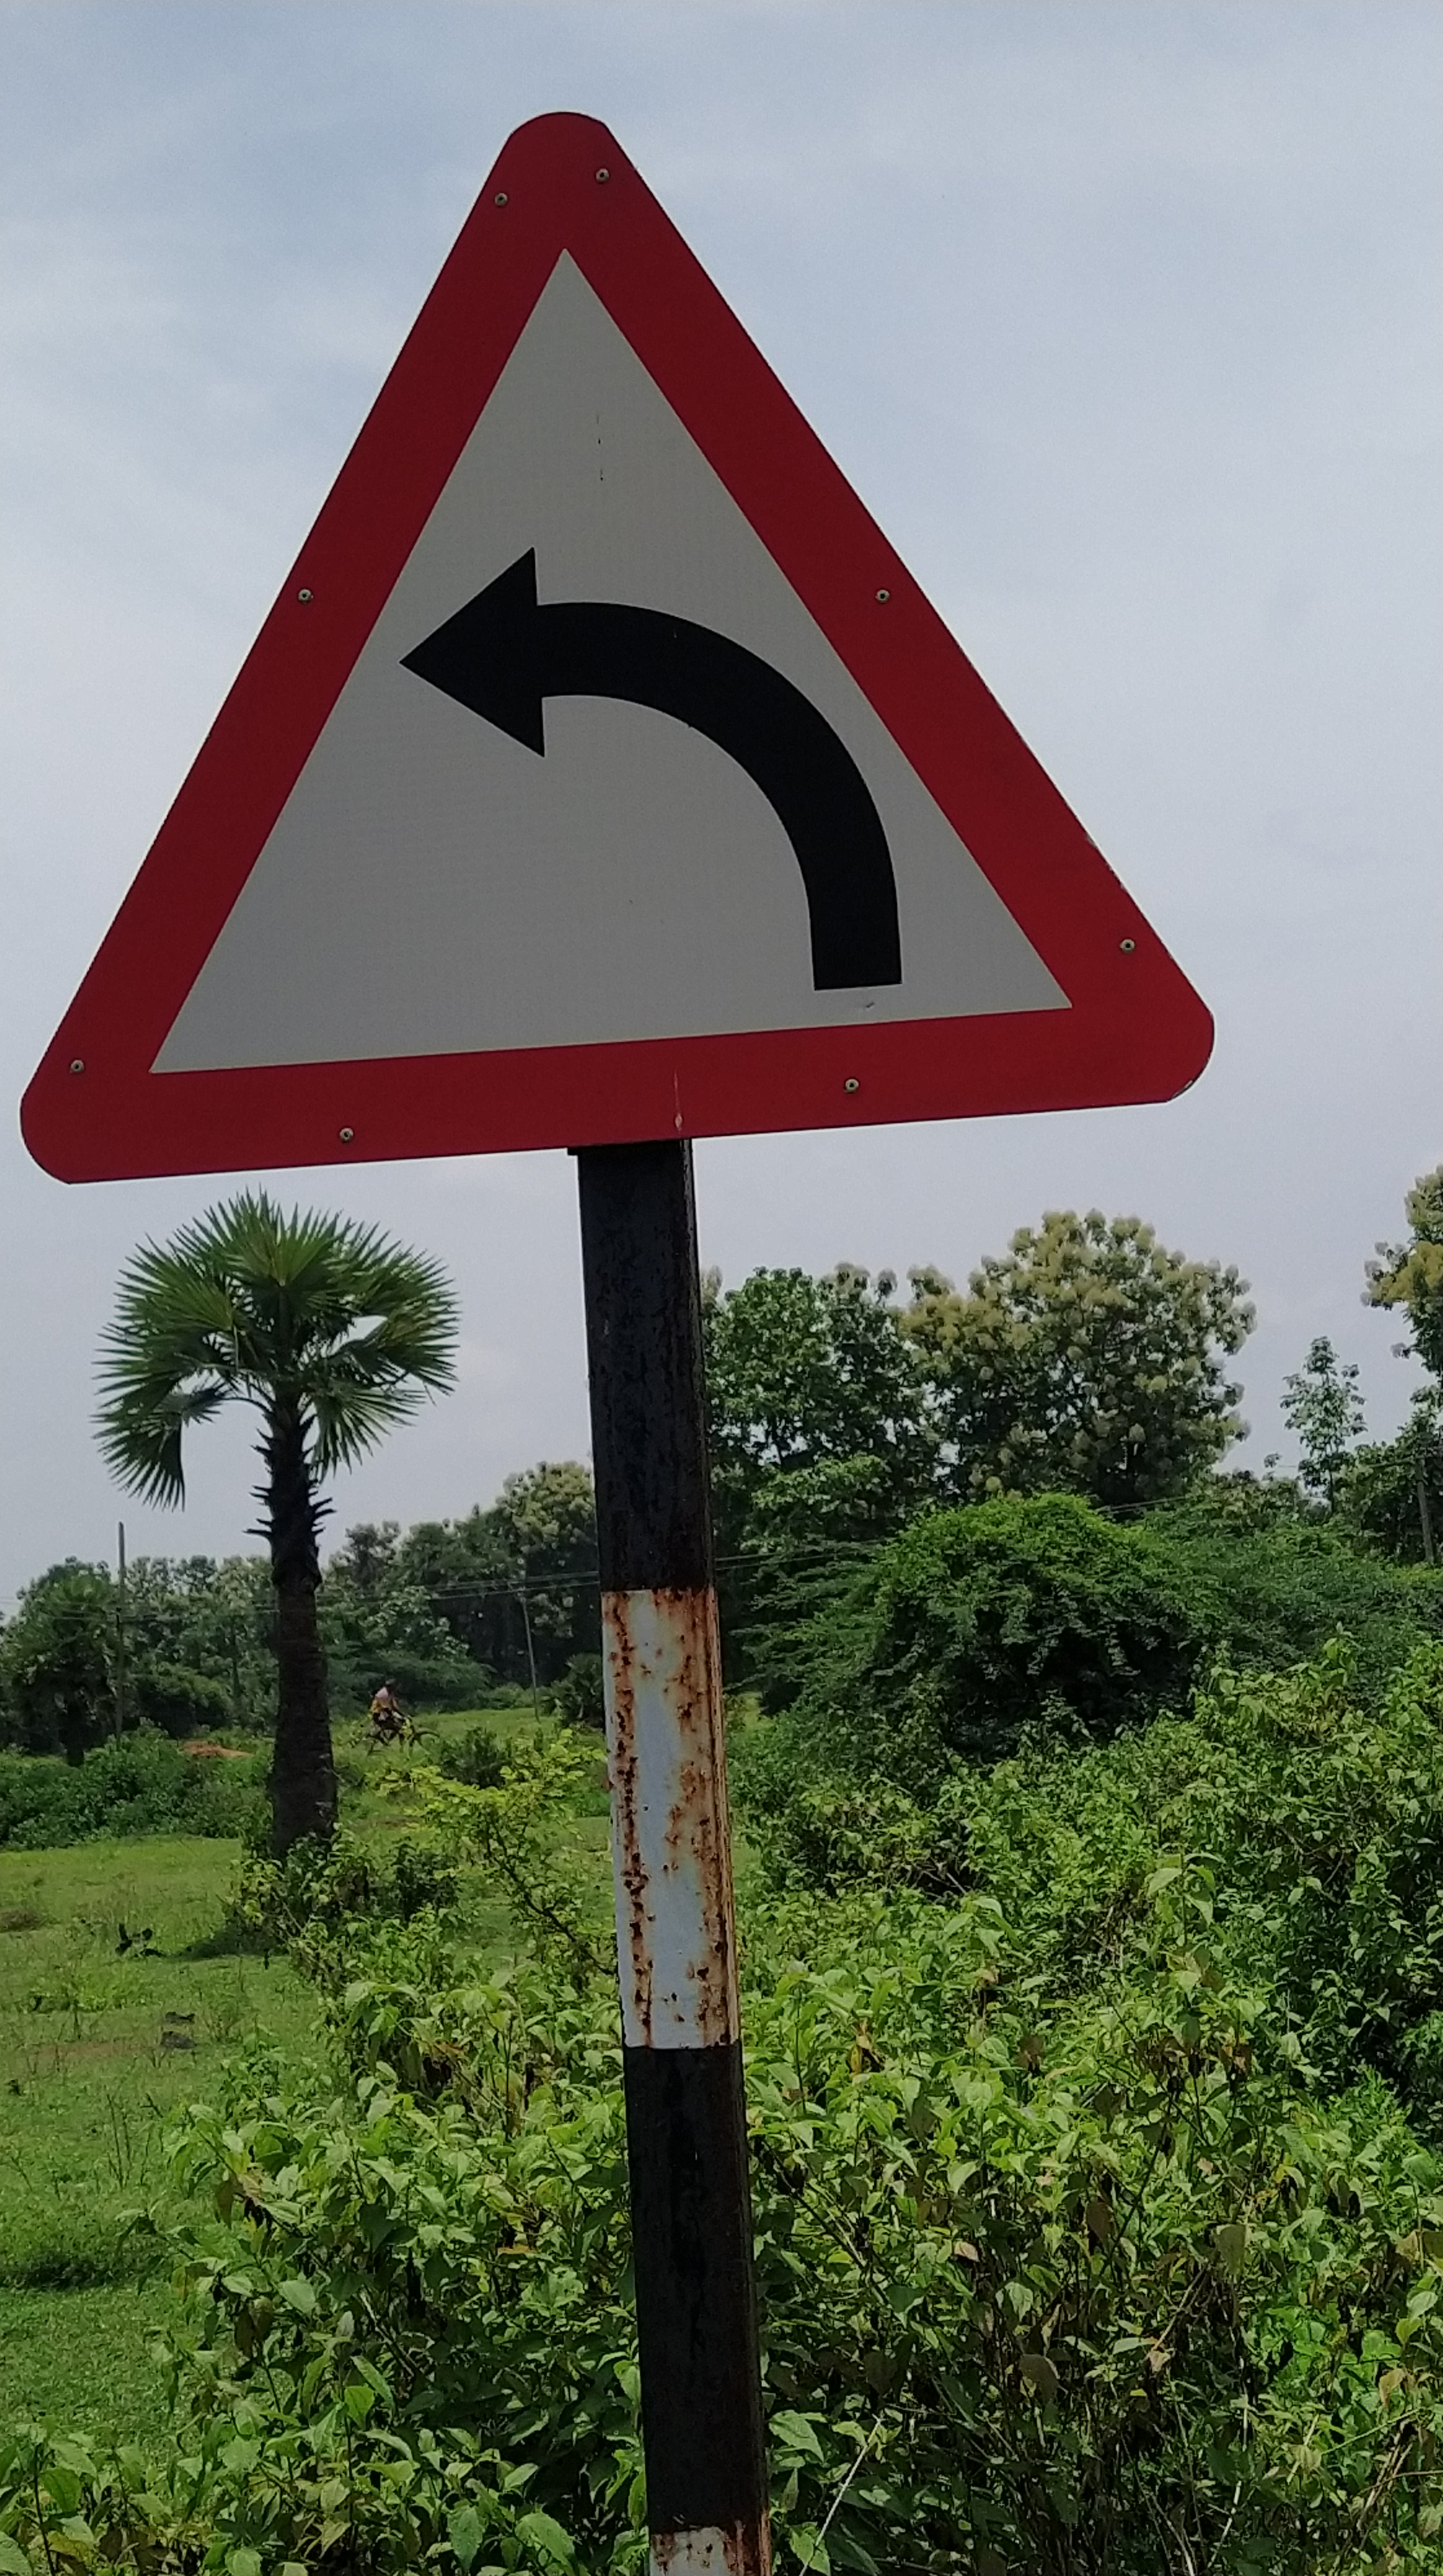Turn left: (42, 83, 1262, 1214)
